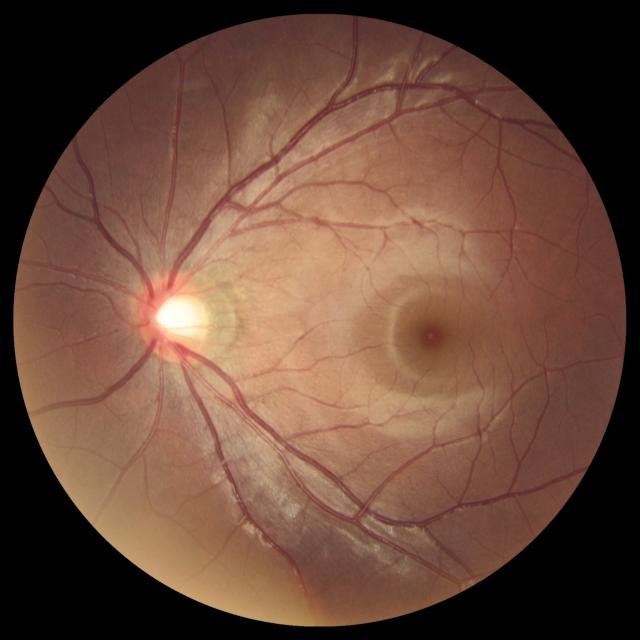OC: (154, 296, 202, 341)
OD: (135, 270, 210, 362)
